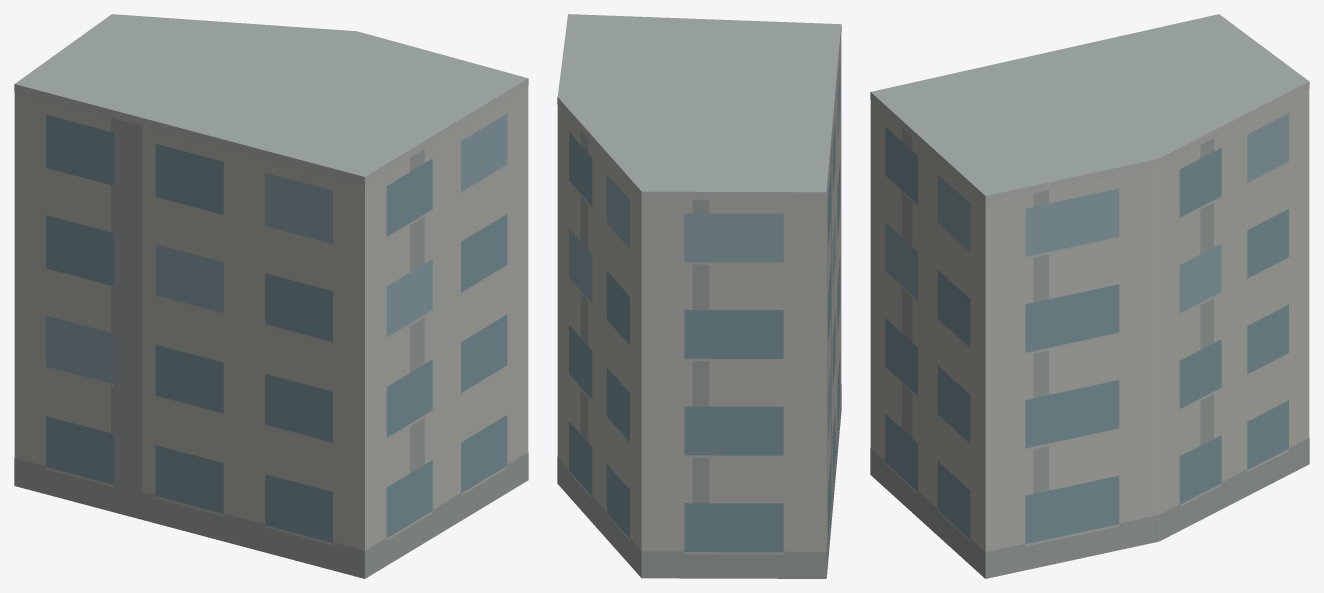
The model's file is residential-bc8fd639-ccf3-498a-bd07-6bee14af9f98.glb.
3 views of the same model, side by side, from view 1: azimuth 30°, elevation 25°; view 2: azimuth 150°, elevation 25°; view 3: azimuth 270°, elevation 25° (orthographic). The views are drawn at different scales.
Visible parts, largest first — view 1: residential-bc8fd639-ccf3-498a-bd07-6bee14af9f98.tmp; view 2: residential-bc8fd639-ccf3-498a-bd07-6bee14af9f98.tmp; view 3: residential-bc8fd639-ccf3-498a-bd07-6bee14af9f98.tmp.
Boxes of the visible parts, x1=… form: residential-bc8fd639-ccf3-498a-bd07-6bee14af9f98.tmp: x1=14, y1=14, x2=528, y2=578; residential-bc8fd639-ccf3-498a-bd07-6bee14af9f98.tmp: x1=557, y1=14, x2=841, y2=578; residential-bc8fd639-ccf3-498a-bd07-6bee14af9f98.tmp: x1=870, y1=14, x2=1309, y2=578.
Size of the model in its own units: 12.44 by 12.2 by 12.68.
